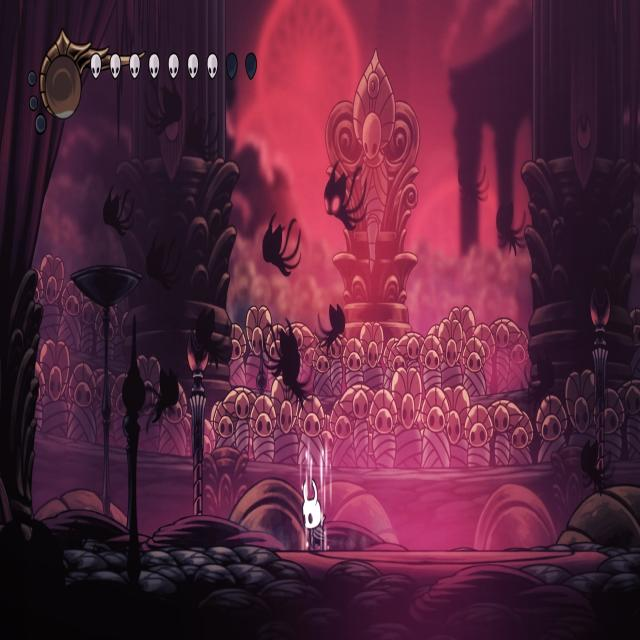Player: (300, 468, 329, 556)
Staggered_Grimm: (322, 153, 369, 236)
